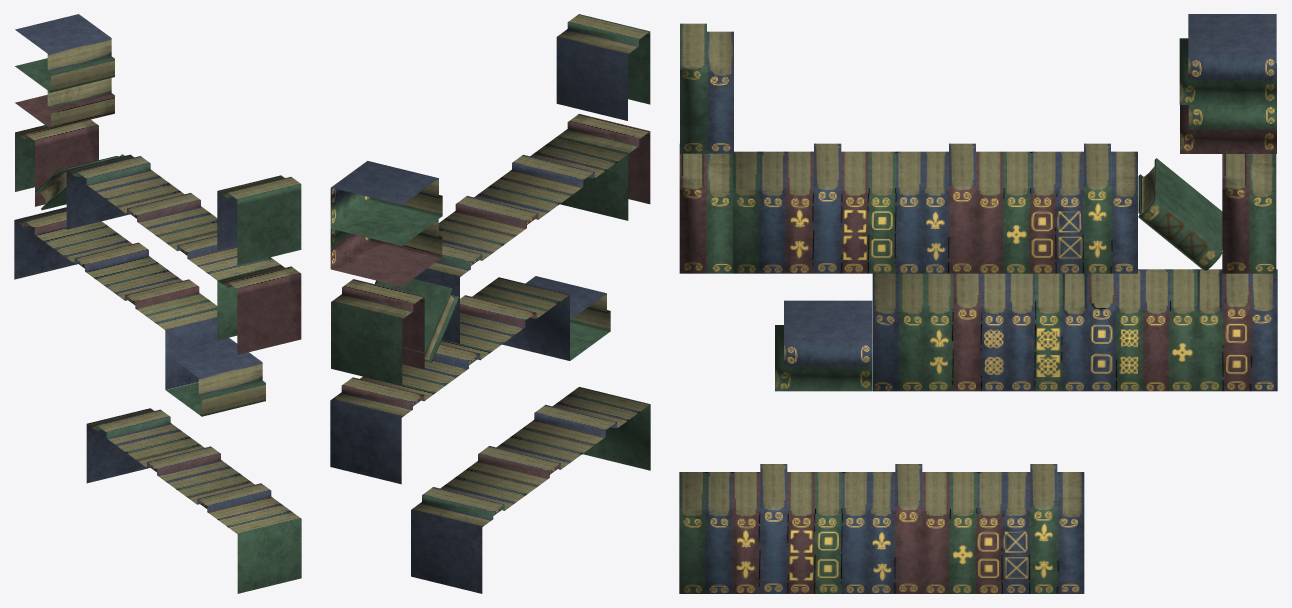
File: BookCaseFill_A_01.fbx
3 views of the same model, side by side, from view 1: azimuth 30°, elevation 25°; view 2: azimuth 150°, elevation 25°; view 3: azimuth 270°, elevation 25° (orthographic). The views are drawn at different scales.
Parts seen in each view (by area): view 1: BookCaseFill_A_01; view 2: BookCaseFill_A_01; view 3: BookCaseFill_A_01.
Boxes of the visible parts, x1=… form: BookCaseFill_A_01: x1=14, y1=14, x2=301, y2=593; BookCaseFill_A_01: x1=330, y1=14, x2=650, y2=593; BookCaseFill_A_01: x1=679, y1=14, x2=1277, y2=593.
Bounding box in the file's own units: 26.03 × 149 × 150.
